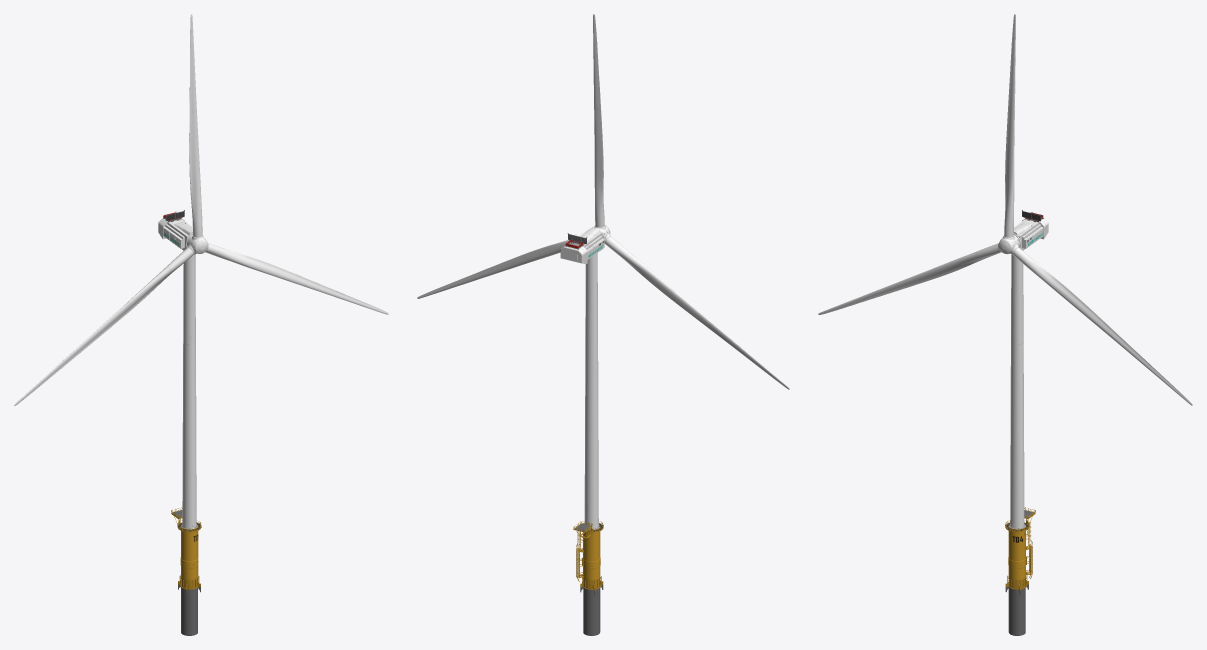
The model's file is WTG.glb.
3 renders of one model, left to right at view 1: azimuth 30°, elevation 25°; view 2: azimuth 150°, elevation 25°; view 3: azimuth 330°, elevation 25°, orthographic.
Parts seen in each view (by area): view 1: Rotor, Tower, Foundation, Hub; view 2: Rotor, Tower, Foundation, Hub; view 3: Rotor, Tower, Foundation, Hub.
Part boxes in pixels (x1,y1,x2,y2): Rotor: (14, 14, 388, 405); Tower: (181, 254, 197, 529); Foundation: (171, 507, 201, 635); Hub: (158, 210, 192, 250); Rotor: (417, 14, 789, 389); Tower: (584, 253, 599, 529); Foundation: (573, 521, 603, 635); Hub: (560, 227, 604, 263); Rotor: (818, 14, 1192, 405); Tower: (1009, 254, 1025, 529); Foundation: (1005, 507, 1035, 635); Hub: (1014, 210, 1048, 250).
Bounding box in the file's own units: 102 × 162 × 15.98.
5 materials, 4 textured.
